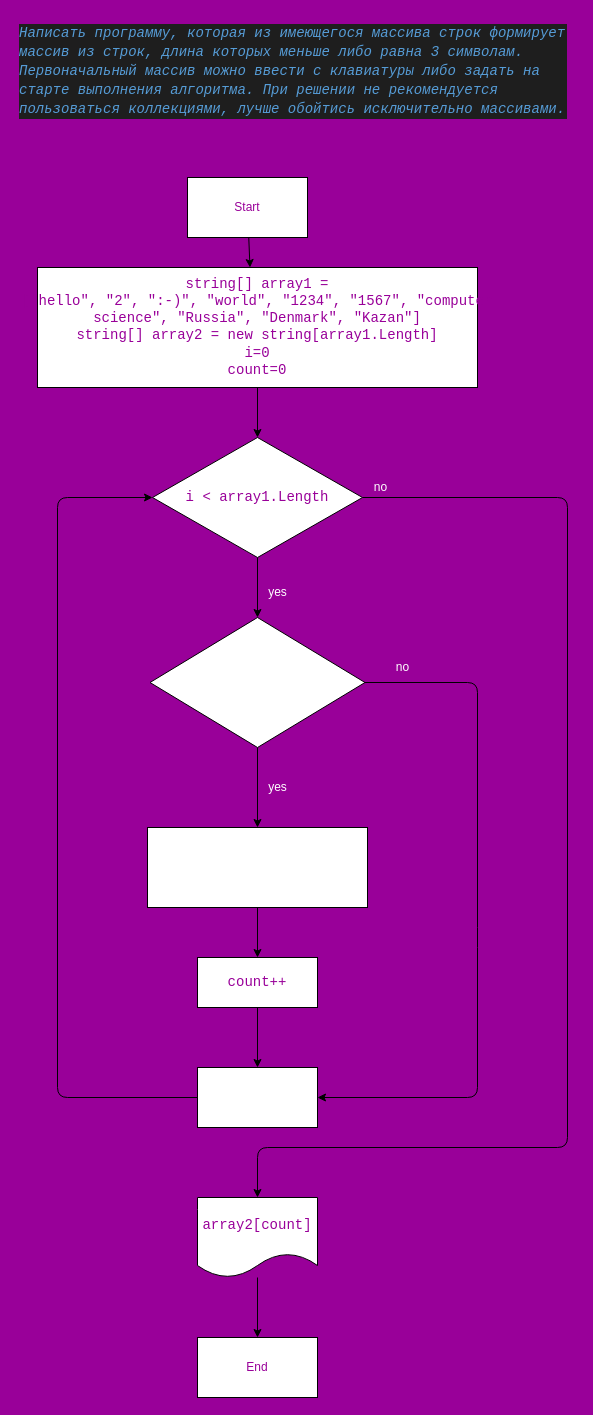
The diagram is 593 pixels wide and 1415 high, and some of its shapes have lost their labels. Each missing label, with the box of its shape:
array1[i].Length <= 3: (149, 616, 365, 748)
array2[count] = array1[i]: (146, 826, 368, 908)
i++: (196, 1066, 318, 1128)
